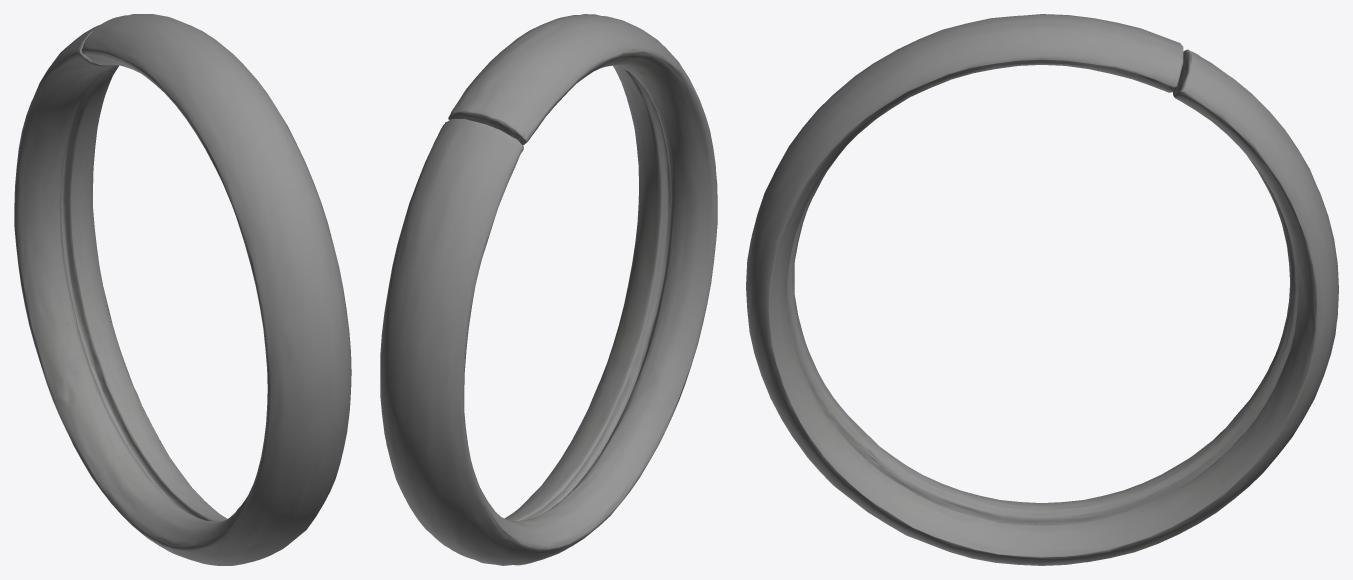
File: hoop.glb
The picture shows the model from 3 angles, left to right: view 1: azimuth 30°, elevation 25°; view 2: azimuth 150°, elevation 25°; view 3: azimuth 270°, elevation 25°; orthographic projection. The views are drawn at different scales.
Visible parts, largest first — view 1: tripo_node_f01e948a-f9b3-459a-b583-1d6b0acac9fb; view 2: tripo_node_f01e948a-f9b3-459a-b583-1d6b0acac9fb; view 3: tripo_node_f01e948a-f9b3-459a-b583-1d6b0acac9fb.
Boxes of the visible parts, x1=… form: tripo_node_f01e948a-f9b3-459a-b583-1d6b0acac9fb: x1=14, y1=14, x2=351, y2=565; tripo_node_f01e948a-f9b3-459a-b583-1d6b0acac9fb: x1=380, y1=14, x2=717, y2=565; tripo_node_f01e948a-f9b3-459a-b583-1d6b0acac9fb: x1=746, y1=14, x2=1338, y2=565.
Size of the model in its own units: 0.0166 by 0.1 by 0.1.
Materials: 1 (1 with a texture image).
